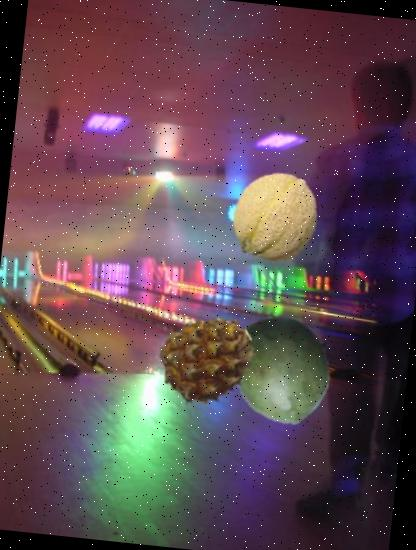Cantaloupe: (224, 166, 327, 269)
Mango: (223, 309, 345, 431)
Pineapple: (154, 306, 261, 414)
